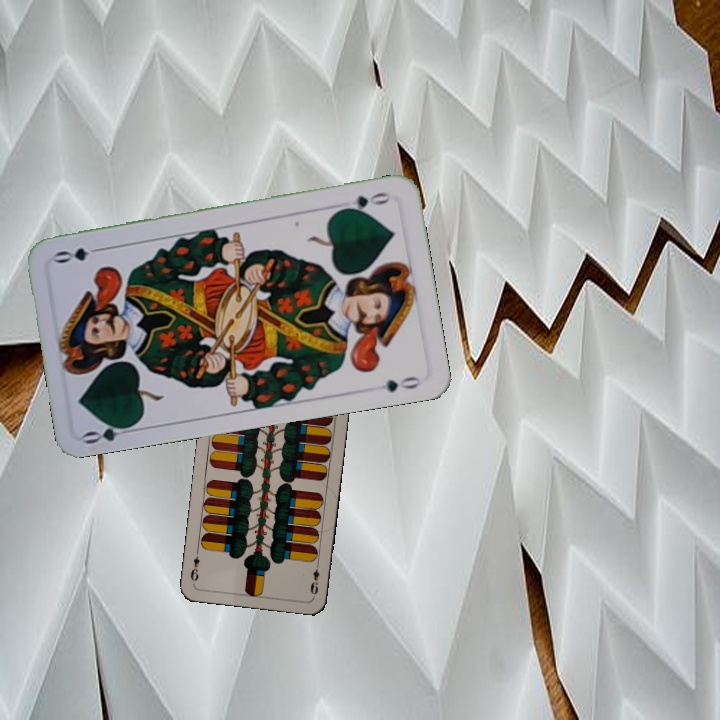E9: (306, 558, 322, 599)
GO: (80, 417, 139, 447), (337, 188, 395, 214)
